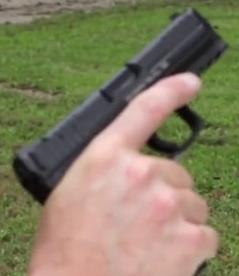gun: (1, 1, 239, 276)
